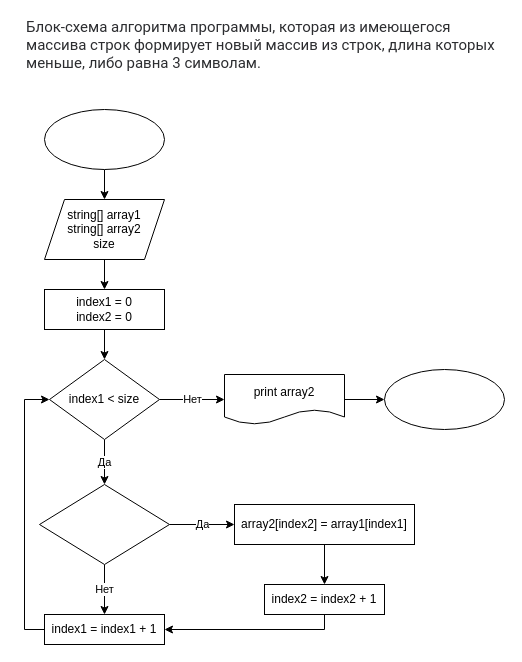
This 522x662 diagram has some shape labels left out. Here are the shapes that lost their labels. From the top down, the centre of each, then its label:
the point at 104,139: Начало
the point at 444,399: Конец
the point at 104,524: array1[index1] <=3
